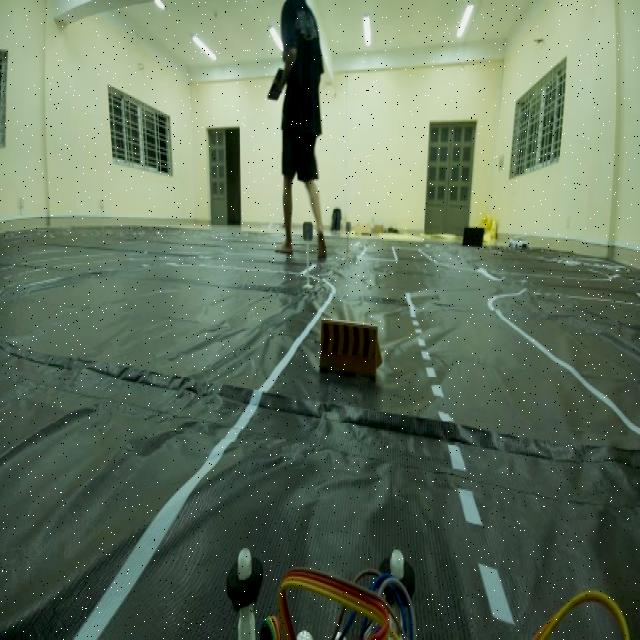roadblock: (315, 307, 390, 393)
